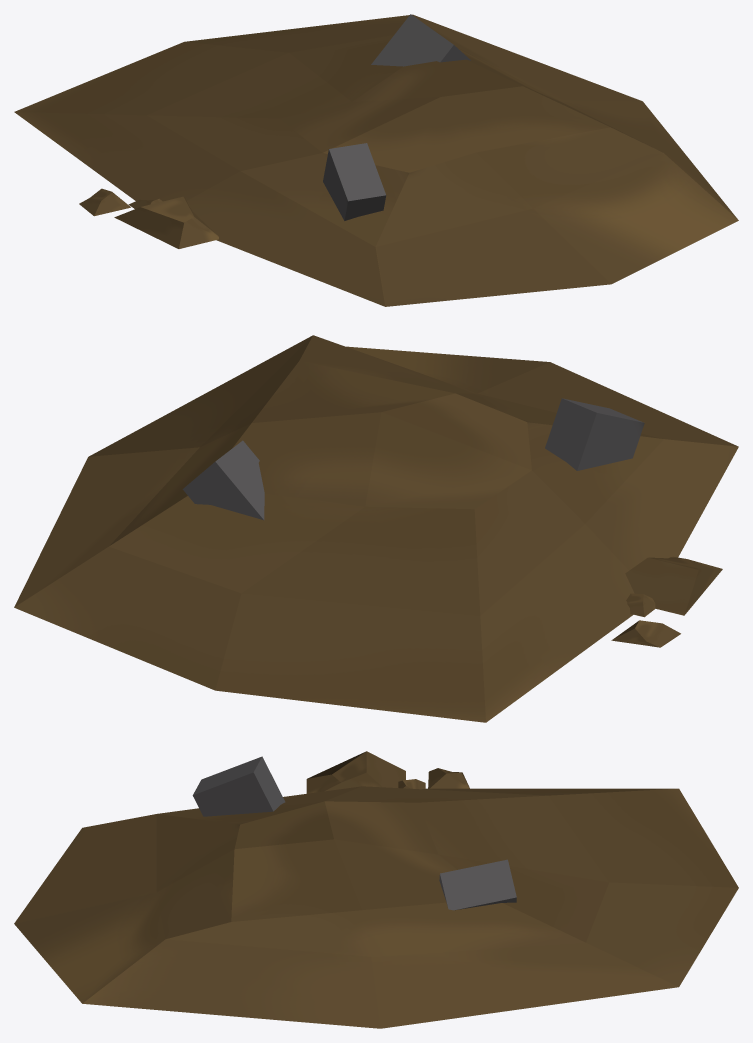
Rendered from entulho1.obj.
3 renders of one model, top to bottom at view 1: azimuth 30°, elevation 25°; view 2: azimuth 150°, elevation 25°; view 3: azimuth 270°, elevation 25°, orthographic. The views are drawn at different scales.
Parts seen in each view (by area): view 1: Cube.001_Cube.005; view 2: Cube.001_Cube.005; view 3: Cube.001_Cube.005.
Part boxes in pixels (x1,y1,x2,y2): Cube.001_Cube.005: (14,14,738,306); Cube.001_Cube.005: (14,335,738,722); Cube.001_Cube.005: (14,751,738,1028).
Bounding box in the file's own units: 12.17 × 2.01 × 14.27.
